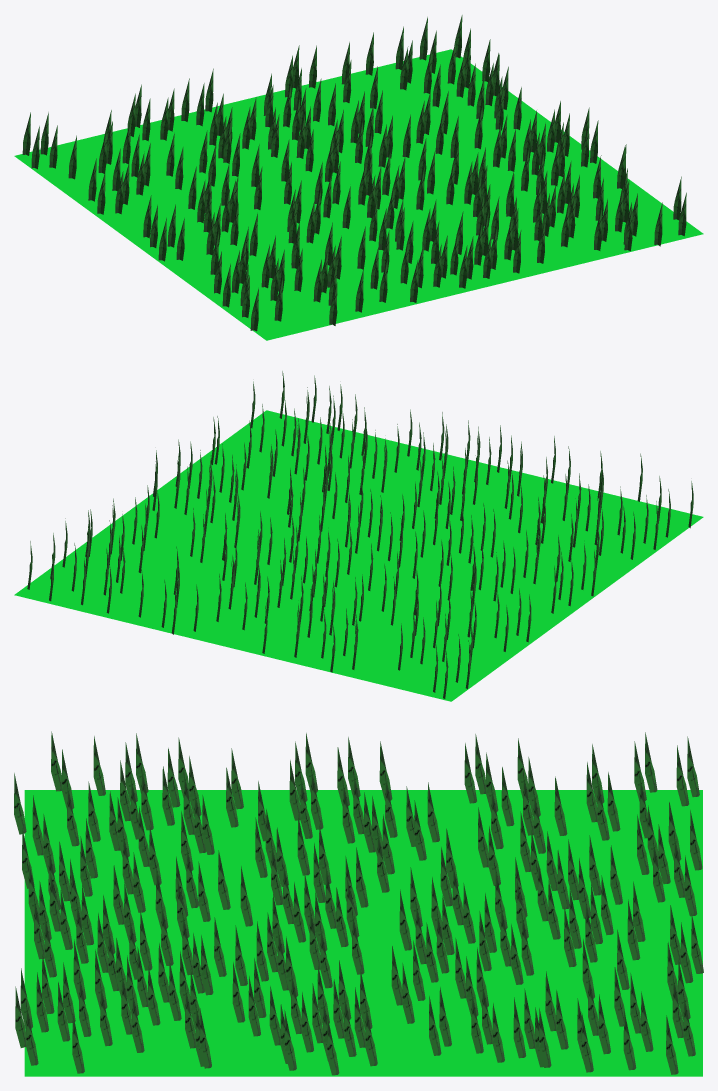
File: grass_v.0.2.fbx
3 renders of one model, top to bottom at view 1: azimuth 30°, elevation 25°; view 2: azimuth 150°, elevation 25°; view 3: azimuth 270°, elevation 25°, orthographic. The views are drawn at different scales.
Parts seen in each view (by area): view 1: Plane.001; view 2: Plane.001; view 3: Plane.001.
Part boxes in pixels (box(x1,y1,x2,y2)): Plane.001: box(14, 15, 703, 340); Plane.001: box(14, 371, 703, 701); Plane.001: box(14, 731, 703, 1076).
Size of the model in its own units: 201 by 203 by 20.25.
Materials: 2 (1 with a texture image).
